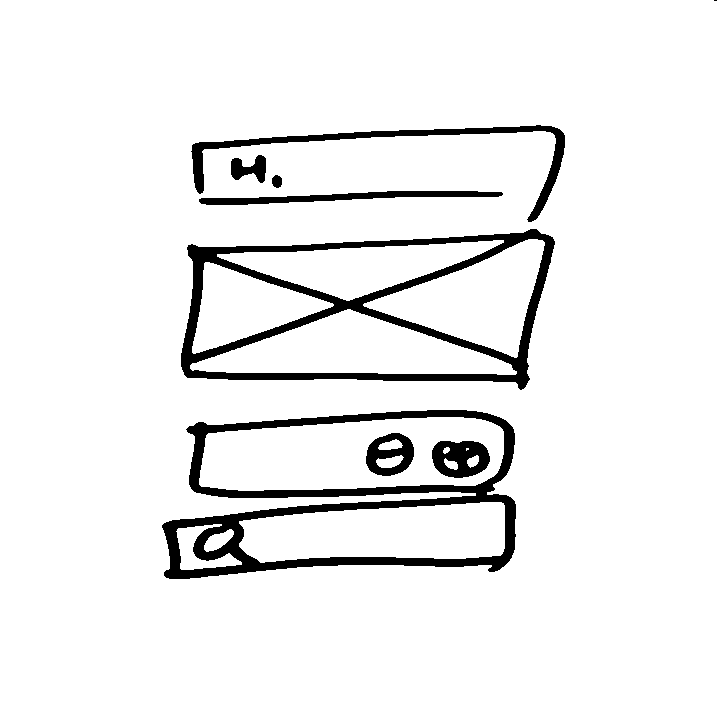heading1: (178, 122, 570, 224)
inline stepper bar: (184, 410, 529, 497)
picture: (176, 231, 556, 397)
search bar: (150, 493, 533, 581)
